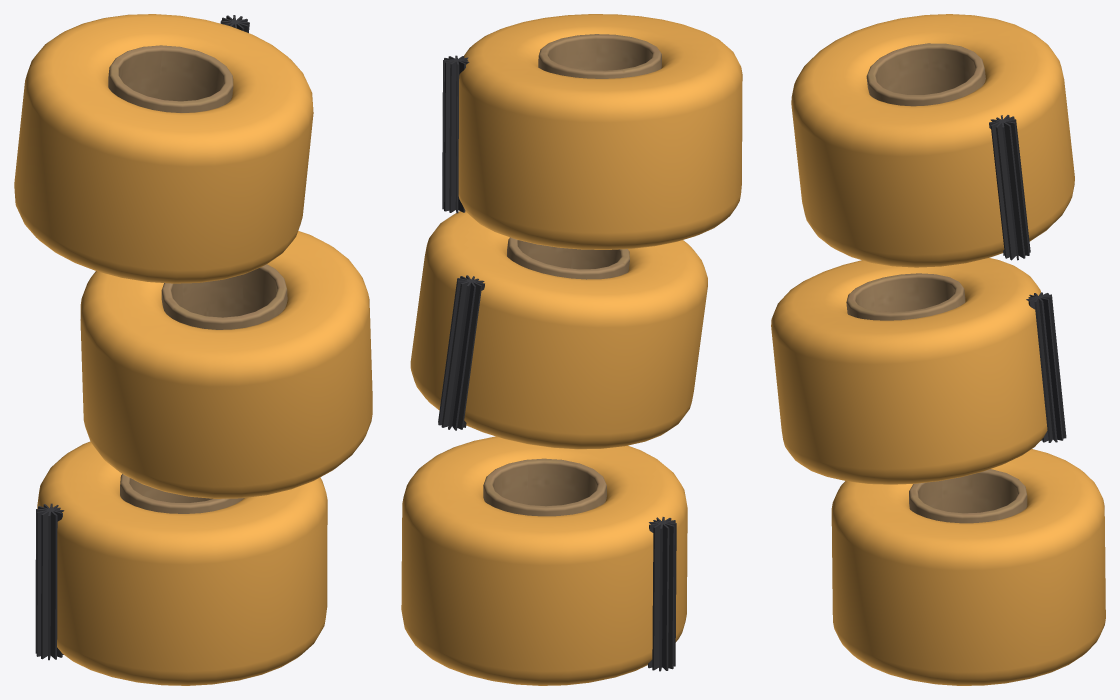
Rendered from SER-EPC-005_anim.glb.
3 views of the same model, side by side, from view 1: azimuth 30°, elevation 25°; view 2: azimuth 150°, elevation 25°; view 3: azimuth 270°, elevation 25° (orthographic). The views are drawn at different scales.
Visible parts, largest first — view 1: SER-EPC-005_anim2, SER-EPC-005_anim1, SER-EPC-005_anim0; view 2: SER-EPC-005_anim0, SER-EPC-005_anim2, SER-EPC-005_anim1; view 3: SER-EPC-005_anim2, SER-EPC-005_anim1, SER-EPC-005_anim0.
Boxes of the visible parts, x1,y1,x2,y2 form: SER-EPC-005_anim2: (14,14,313,283); SER-EPC-005_anim1: (80,231,372,498); SER-EPC-005_anim0: (35,441,327,685); SER-EPC-005_anim0: (401,436,687,685); SER-EPC-005_anim2: (442,14,742,249); SER-EPC-005_anim1: (410,211,707,449); SER-EPC-005_anim2: (791,14,1074,267); SER-EPC-005_anim1: (771,258,1066,484); SER-EPC-005_anim0: (831,449,1105,685).
Size of the model in its own units: 0.1478 by 0.2716 by 0.1465.
3 materials, 1 textured.
